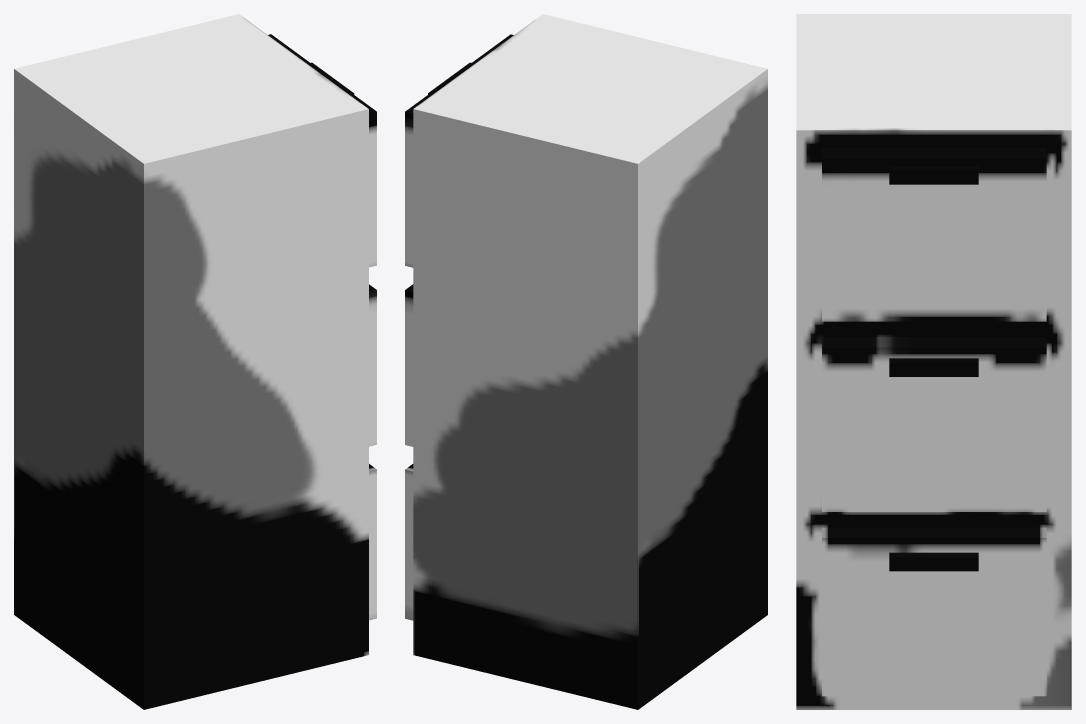
File: doc_storage.glb
The picture shows the model from 3 angles, left to right: view 1: azimuth 30°, elevation 25°; view 2: azimuth 150°, elevation 25°; view 3: azimuth 270°, elevation 25°; orthographic projection. The views are drawn at different scales.
Visible parts, largest first — view 1: Cube; view 2: Cube; view 3: Cube, Cube.003, Cube.001, Cube.002.
Boxes of the visible parts, x1,y1,x2,y2 form: Cube: (14, 14, 376, 709); Cube: (405, 14, 767, 709); Cube: (796, 14, 1071, 709); Cube.003: (889, 552, 978, 571); Cube.001: (889, 166, 978, 184); Cube.002: (889, 358, 978, 376).
Bounding box in the file's own units: 2.26 × 4.64 × 2.
Materials: 2 (1 with a texture image).
